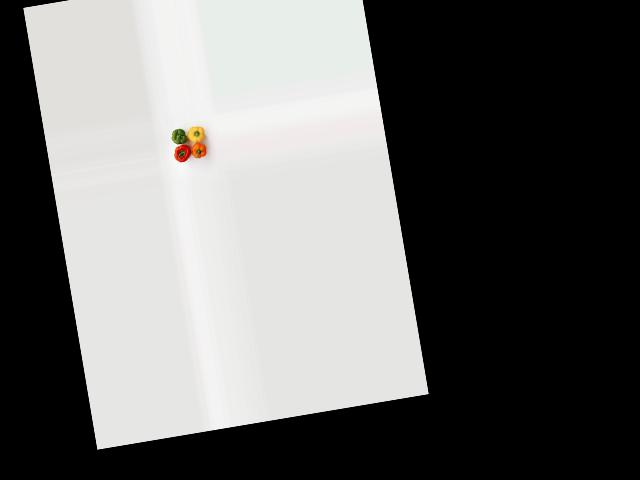bell_pepper: (168, 122, 190, 149)
